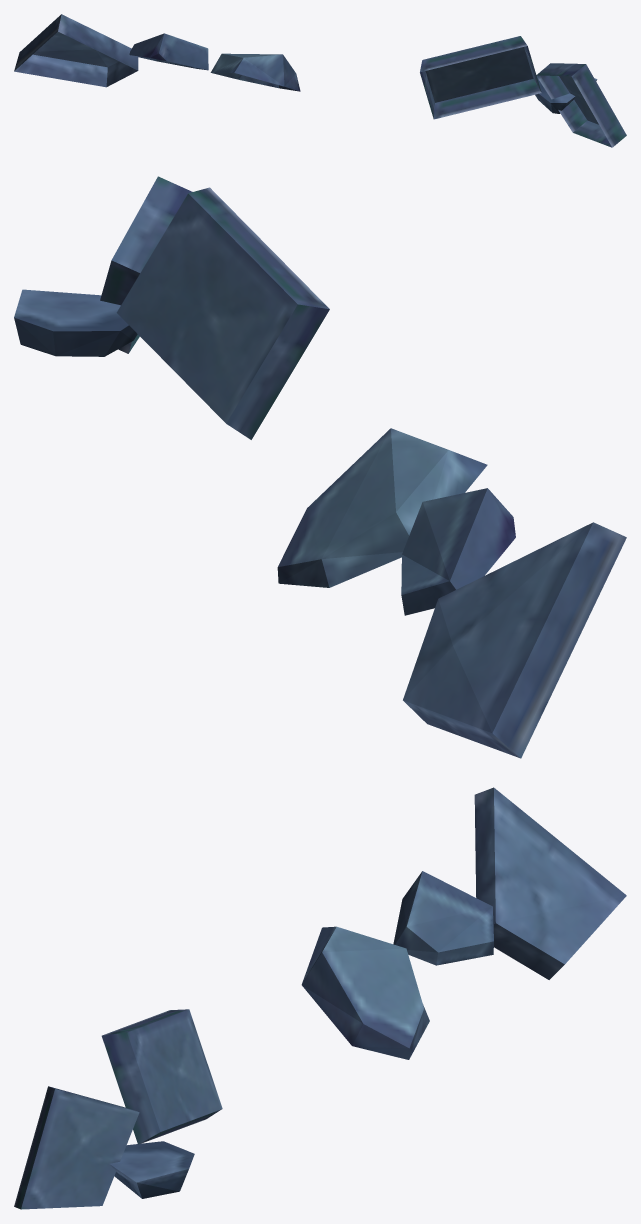
The model's file is Area12_35.fbx.
The picture shows the model from 3 angles, top to bottom: view 1: azimuth 30°, elevation 25°; view 2: azimuth 150°, elevation 25°; view 3: azimuth 270°, elevation 25°; orthographic projection. The views are drawn at different scales.
Parts seen in each view (by area): view 1: Area12_35; view 2: Area12_35; view 3: Area12_35.
Part boxes in pixels (x1,y1,x2,y2): Area12_35: [14, 14, 626, 147]; Area12_35: [14, 176, 626, 758]; Area12_35: [14, 787, 626, 1209].
Bounding box in the file's own units: 708 × 173 × 621.
Materials: 1 (1 with a texture image).
